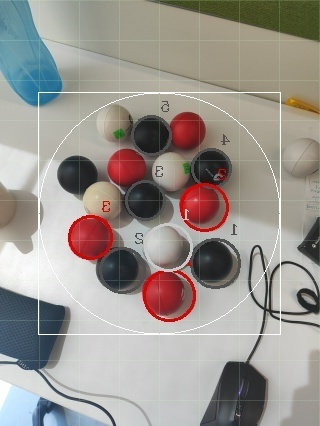Pelota blanca: (0, 182, 47, 256), (266, 260, 320, 320), (42, 396, 153, 425), (141, 222, 193, 270), (151, 150, 193, 192), (82, 180, 124, 222), (95, 100, 135, 142), (282, 137, 320, 179), (0, 182, 17, 232)
Pelota negra: (199, 361, 270, 425), (191, 236, 244, 291), (95, 246, 151, 296), (125, 180, 175, 227), (55, 153, 100, 198), (130, 113, 172, 155), (191, 148, 233, 184)
Pelota roja: (141, 268, 199, 323), (178, 180, 230, 232), (66, 212, 116, 262), (106, 148, 148, 187), (170, 110, 207, 152)
